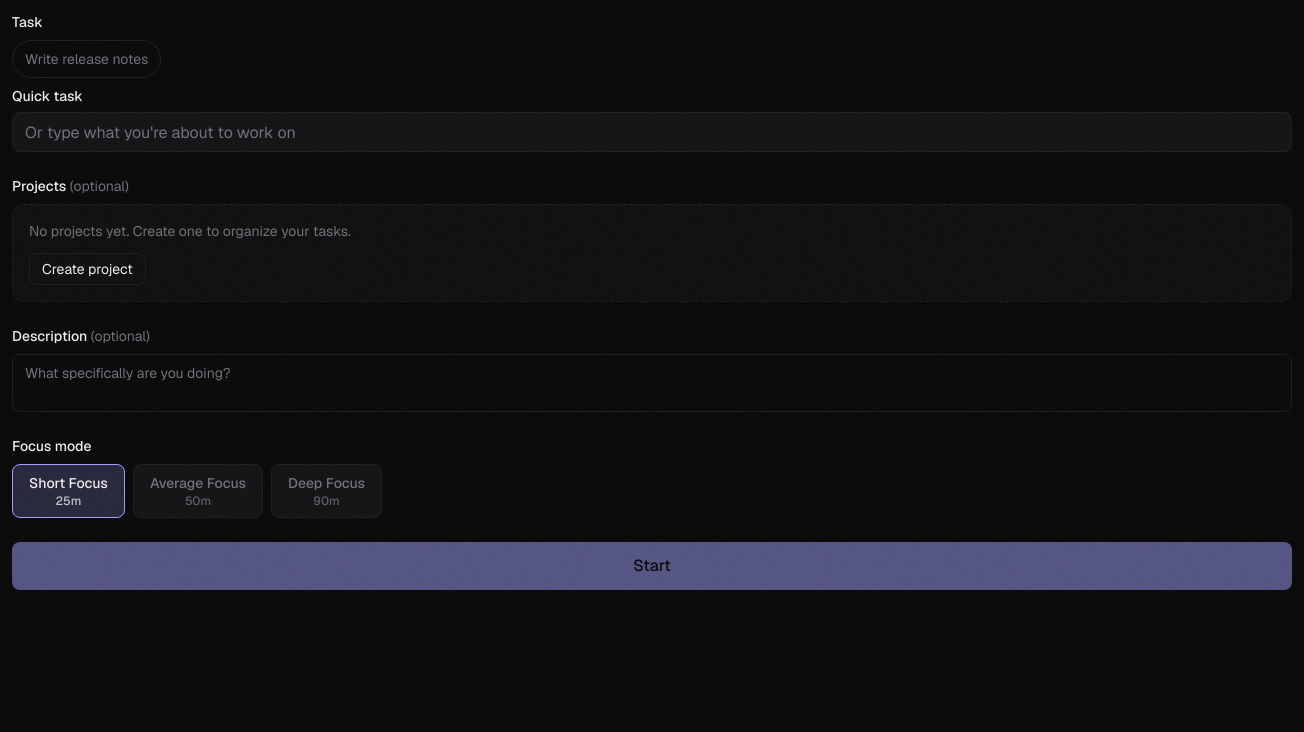
SessionSetup › lets an existing task enable start without requiring projects
Expected: the button "Start" is disabled, x1=12 y1=542 x2=1292 y2=590
Click the button "Write release notes". click: (87, 59)
box: x1=12 y1=40 x2=161 y2=78
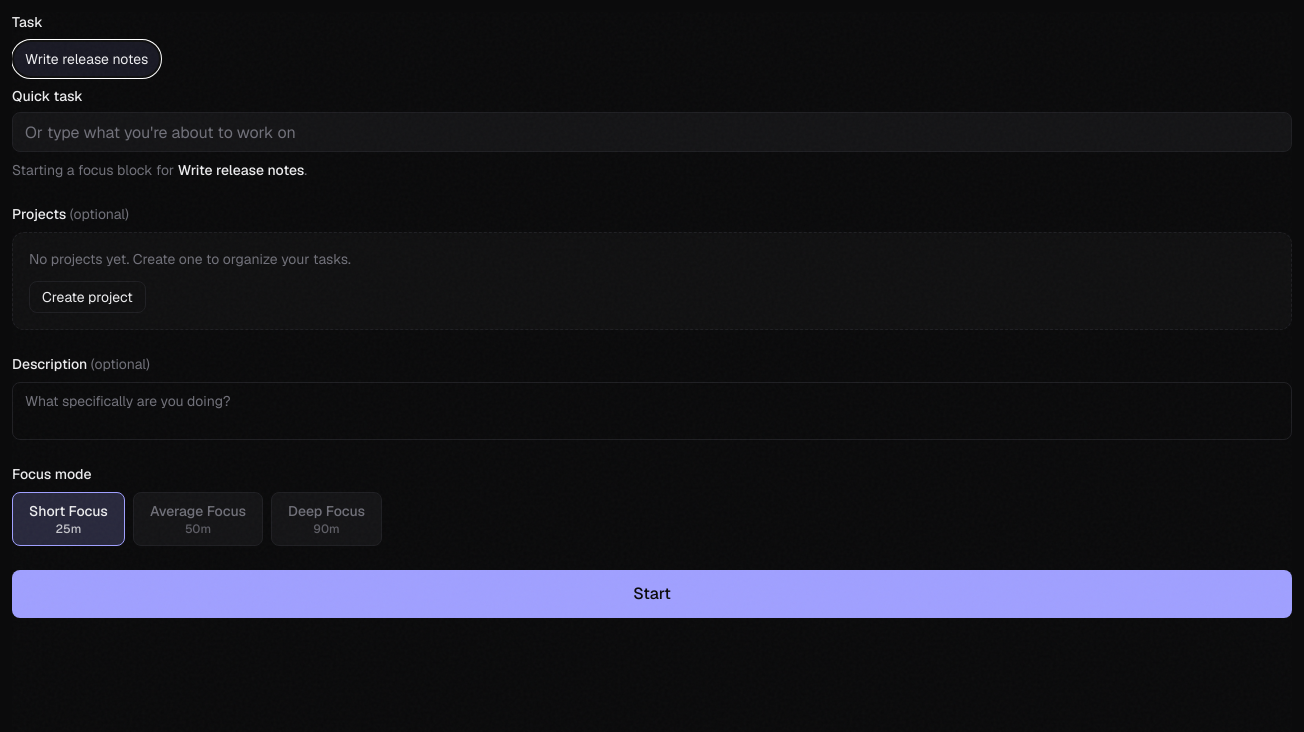
Result: the button "Start" is enabled at x1=12 y1=570 x2=1292 y2=618
